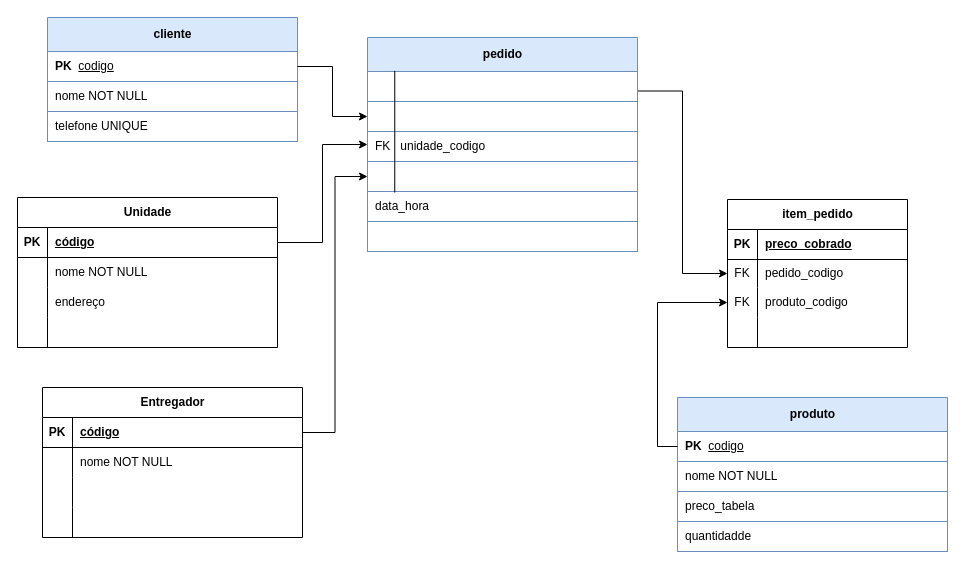
This 965x569 diagram has some shape labels left out. The shapes that lost their labels are listed below. From the top down, each one's centre as x and y in pixels, then its label:
the point at 502,86: PK numero
the point at 502,116: FK cliente_codigo
the point at 502,176: FK entregador_codigo
